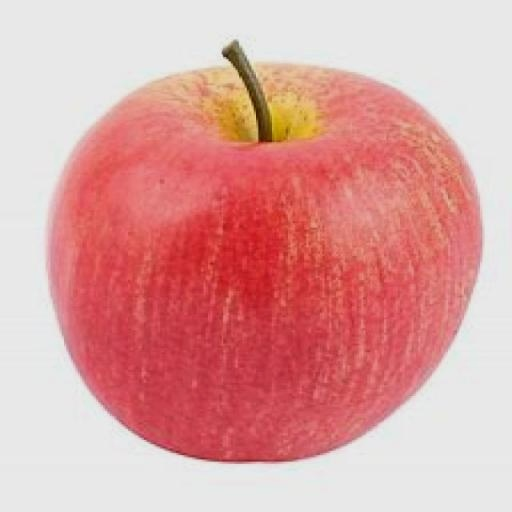fruit: (49, 65, 480, 460)
